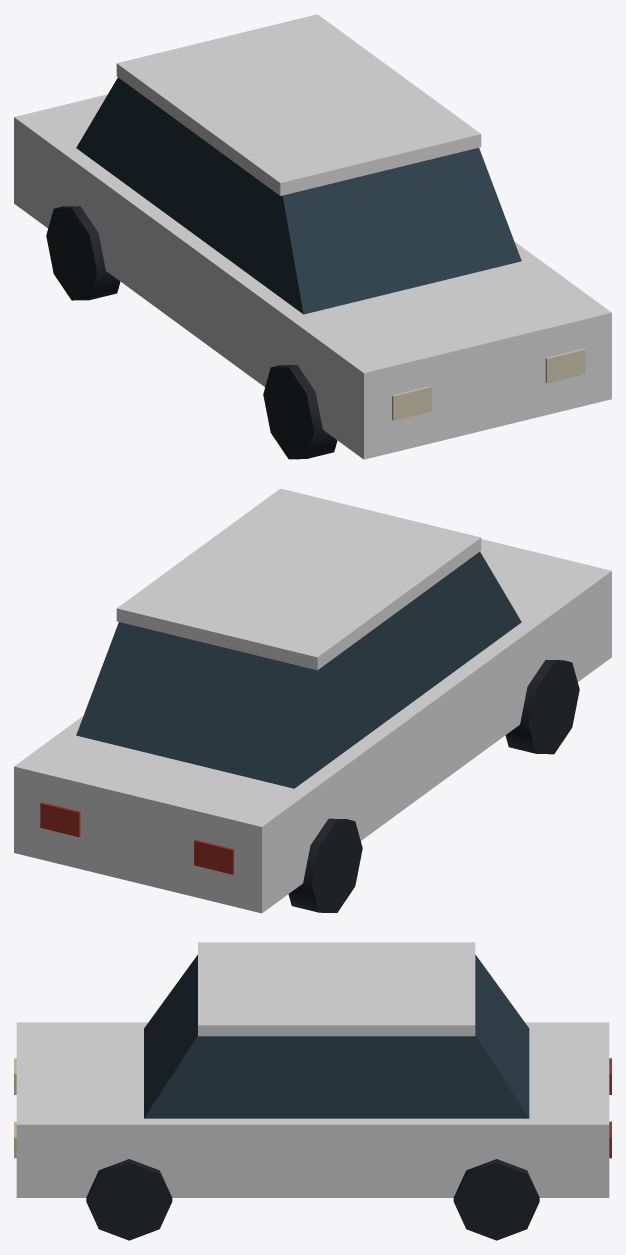
File: veh_car_2.d0a891a252d7.glb
3 renders of one model, top to bottom at view 1: azimuth 30°, elevation 25°; view 2: azimuth 150°, elevation 25°; view 3: azimuth 270°, elevation 25°, orthographic. The views are drawn at different scales.
Parts seen in each view (by area): view 1: LOD0; view 2: LOD0; view 3: LOD0.
Part boxes in pixels (<box>): LOD0: <box>14,14,611,459</box>; LOD0: <box>14,488,611,913</box>; LOD0: <box>14,942,611,1240</box>.
Size of what is drawn, in the model's own units: 1.93 by 1.65 by 4.44.
